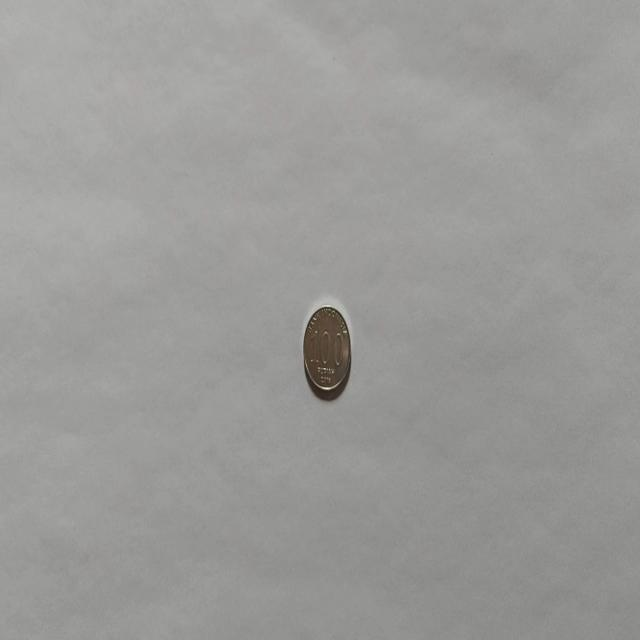seratus rupiah: (302, 303, 352, 396)
